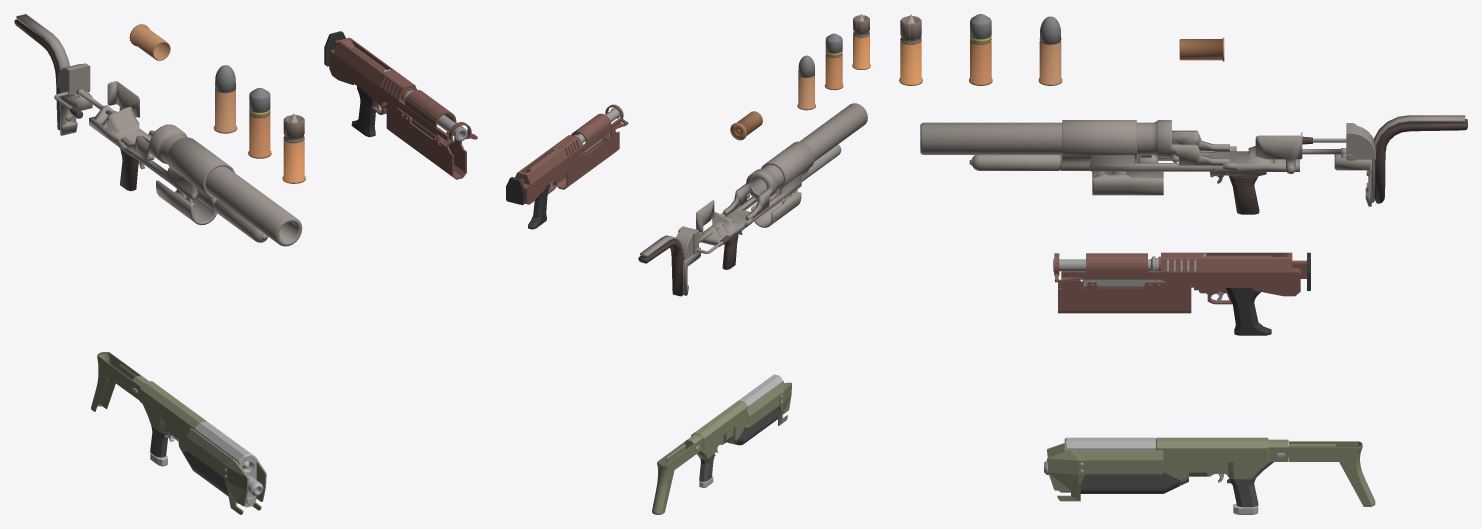
Rendered from PiriWeaponry.dae.
3 renders of one model, left to right at view 1: azimuth 30°, elevation 25°; view 2: azimuth 150°, elevation 25°; view 3: azimuth 270°, elevation 25°, orthographic. The views are drawn at different scales.
Parts seen in each view (by area): view 1: Posmer_HC40Base, Tothler_Tygria_M2, Anoca_PT-15, Posmer_HC40Barrel, _0mmShellSHE, _0mmShellAP, _0mmShellSK, Posmer_HC40Breech, _0mmShellSKEmpty; view 2: Posmer_HC40Base, Tothler_Tygria_M2, Anoca_PT-15, Posmer_HC40Barrel, _0mmShellSHE, _0mmShellAP, _0mmShellSK, Posmer_HC40Breech, _0mmShellSKEmpty; view 3: Posmer_HC40Base, Tothler_Tygria_M2, Anoca_PT-15, Posmer_HC40Barrel, _0mmShellSHE, _0mmShellAP, _0mmShellSK, Posmer_HC40Breech, _0mmShellSKEmpty.
Part boxes in pixels (x1=…): Posmer_HC40Base: x1=14, y1=14, x2=268, y2=242; Tothler_Tygria_M2: x1=91, y1=352, x2=266, y2=514; Anoca_PT-15: x1=324, y1=31, x2=477, y2=179; Posmer_HC40Barrel: x1=120, y1=124, x2=302, y2=246; _0mmShellSHE: x1=248, y1=88, x2=271, y2=158; _0mmShellAP: x1=282, y1=113, x2=305, y2=183; _0mmShellSK: x1=213, y1=65, x2=237, y2=133; Posmer_HC40Breech: x1=54, y1=63, x2=90, y2=118; _0mmShellSKEmpty: x1=129, y1=24, x2=170, y2=60; Posmer_HC40Base: x1=638, y1=141, x2=841, y2=296; Tothler_Tygria_M2: x1=652, y1=374, x2=791, y2=514; Anoca_PT-15: x1=506, y1=104, x2=628, y2=229; Posmer_HC40Barrel: x1=723, y1=103, x2=867, y2=220; _0mmShellSHE: x1=824, y1=33, x2=843, y2=90; _0mmShellAP: x1=852, y1=14, x2=870, y2=69; _0mmShellSK: x1=797, y1=55, x2=815, y2=110; Posmer_HC40Breech: x1=676, y1=226, x2=730, y2=259; _0mmShellSKEmpty: x1=730, y1=111, x2=762, y2=140; Posmer_HC40Base: x1=969, y1=115, x2=1467, y2=214; Tothler_Tygria_M2: x1=1044, y1=437, x2=1375, y2=514; Anoca_PT-15: x1=1053, y1=252, x2=1310, y2=335; Posmer_HC40Barrel: x1=920, y1=120, x2=1229, y2=165; _0mmShellSHE: x1=969, y1=14, x2=992, y2=85; _0mmShellAP: x1=899, y1=14, x2=922, y2=85; _0mmShellSK: x1=1038, y1=16, x2=1062, y2=85; Posmer_HC40Breech: x1=1302, y1=123, x2=1375, y2=160; _0mmShellSKEmpty: x1=1179, y1=37, x2=1224, y2=61.
Size of the model in its own units: 9.48 by 16.32 by 15.32.
